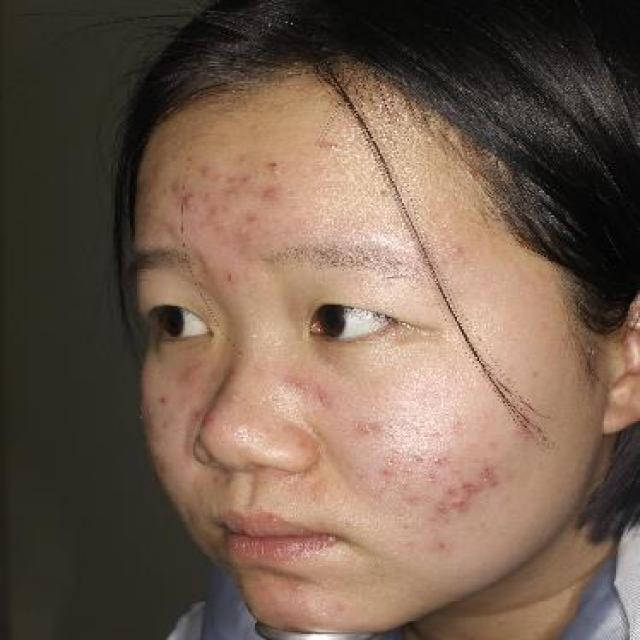Acne: (443, 477, 474, 514), (469, 462, 506, 489), (176, 192, 200, 212)
Whiteheads: (322, 135, 346, 157)
